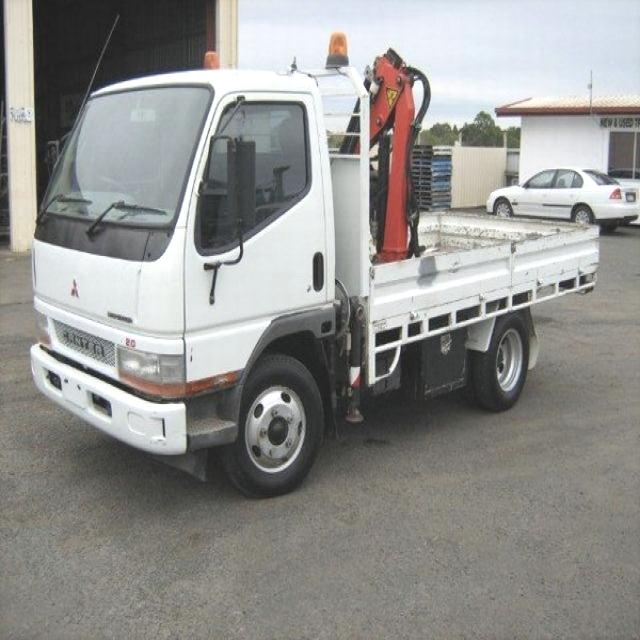truck: (28, 33, 601, 495)
